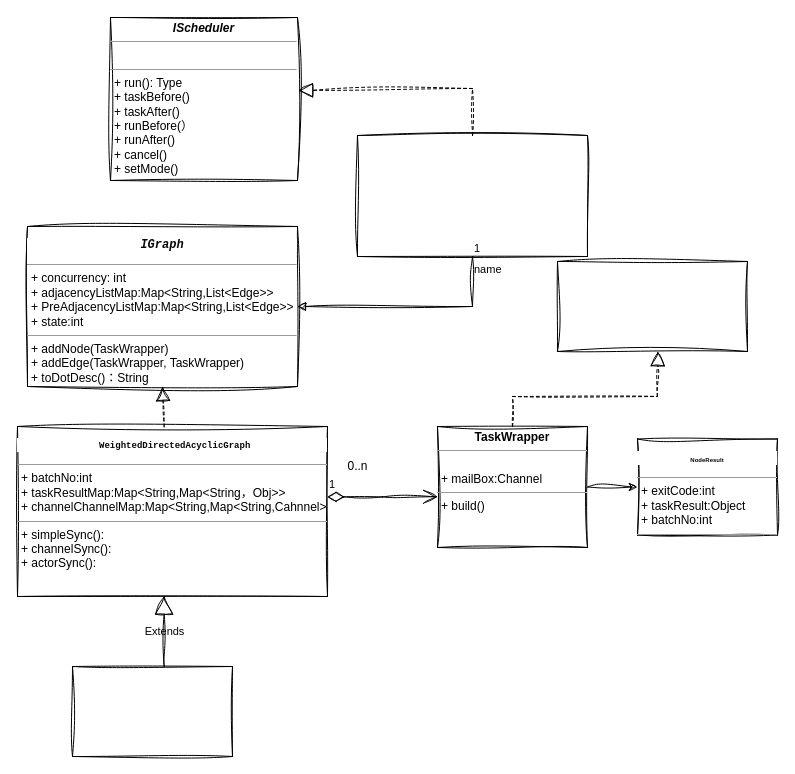
This 795x774 diagram has some shape labels left out. The centre of each missing label's shape, as x and y in pixels:
"DirectedAcyclicGraph" goes at (x=152, y=711).
"GraphScheduler + scope: CoroutineScope + mode: int" goes at (x=472, y=195).
"ITask + groupName: String + tagName:String" goes at (x=652, y=306).
